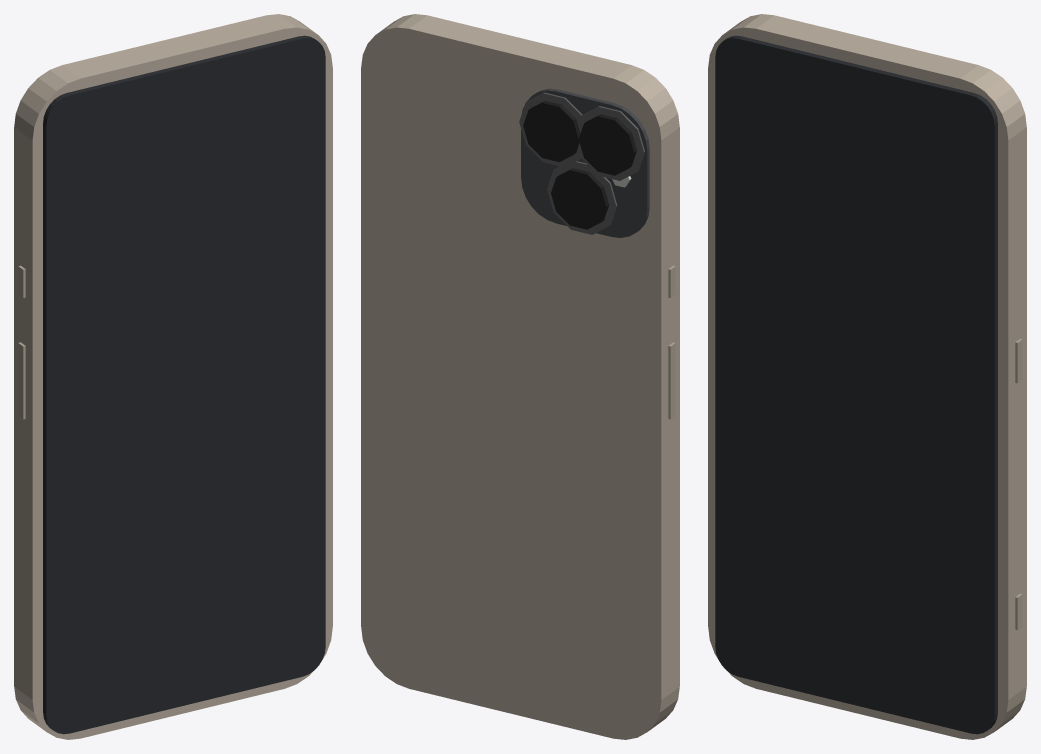
Rendered from 03_apple_iphone_16_pro_max.glb.
3 renders of one model, left to right at view 1: azimuth 30°, elevation 25°; view 2: azimuth 150°, elevation 25°; view 3: azimuth 330°, elevation 25°, orthographic.
Parts seen in each view (by area): view 1: geometry_1, geometry_0, geometry_4; view 2: geometry_0, geometry_7, geometry_12, geometry_8, geometry_10, geometry_9, geometry_13, geometry_11, geometry_4; view 3: geometry_1, geometry_0.
Boxes of the visible parts, x1,y1,x2,y2 form: geometry_1: (43,35,325,734); geometry_0: (14,14,332,739); geometry_4: (18,342,25,419); geometry_0: (361,14,679,739); geometry_7: (521,88,649,237); geometry_12: (551,168,609,229); geometry_8: (578,114,636,175); geometry_10: (523,100,580,162); geometry_9: (578,106,644,180); geometry_13: (547,161,617,234); geometry_11: (519,92,582,167); geometry_4: (668,342,675,419); geometry_1: (715,35,997,734); geometry_0: (708,14,1026,739).
Size of the model in its own units: 0.252 by 0.5231 by 0.0427.
